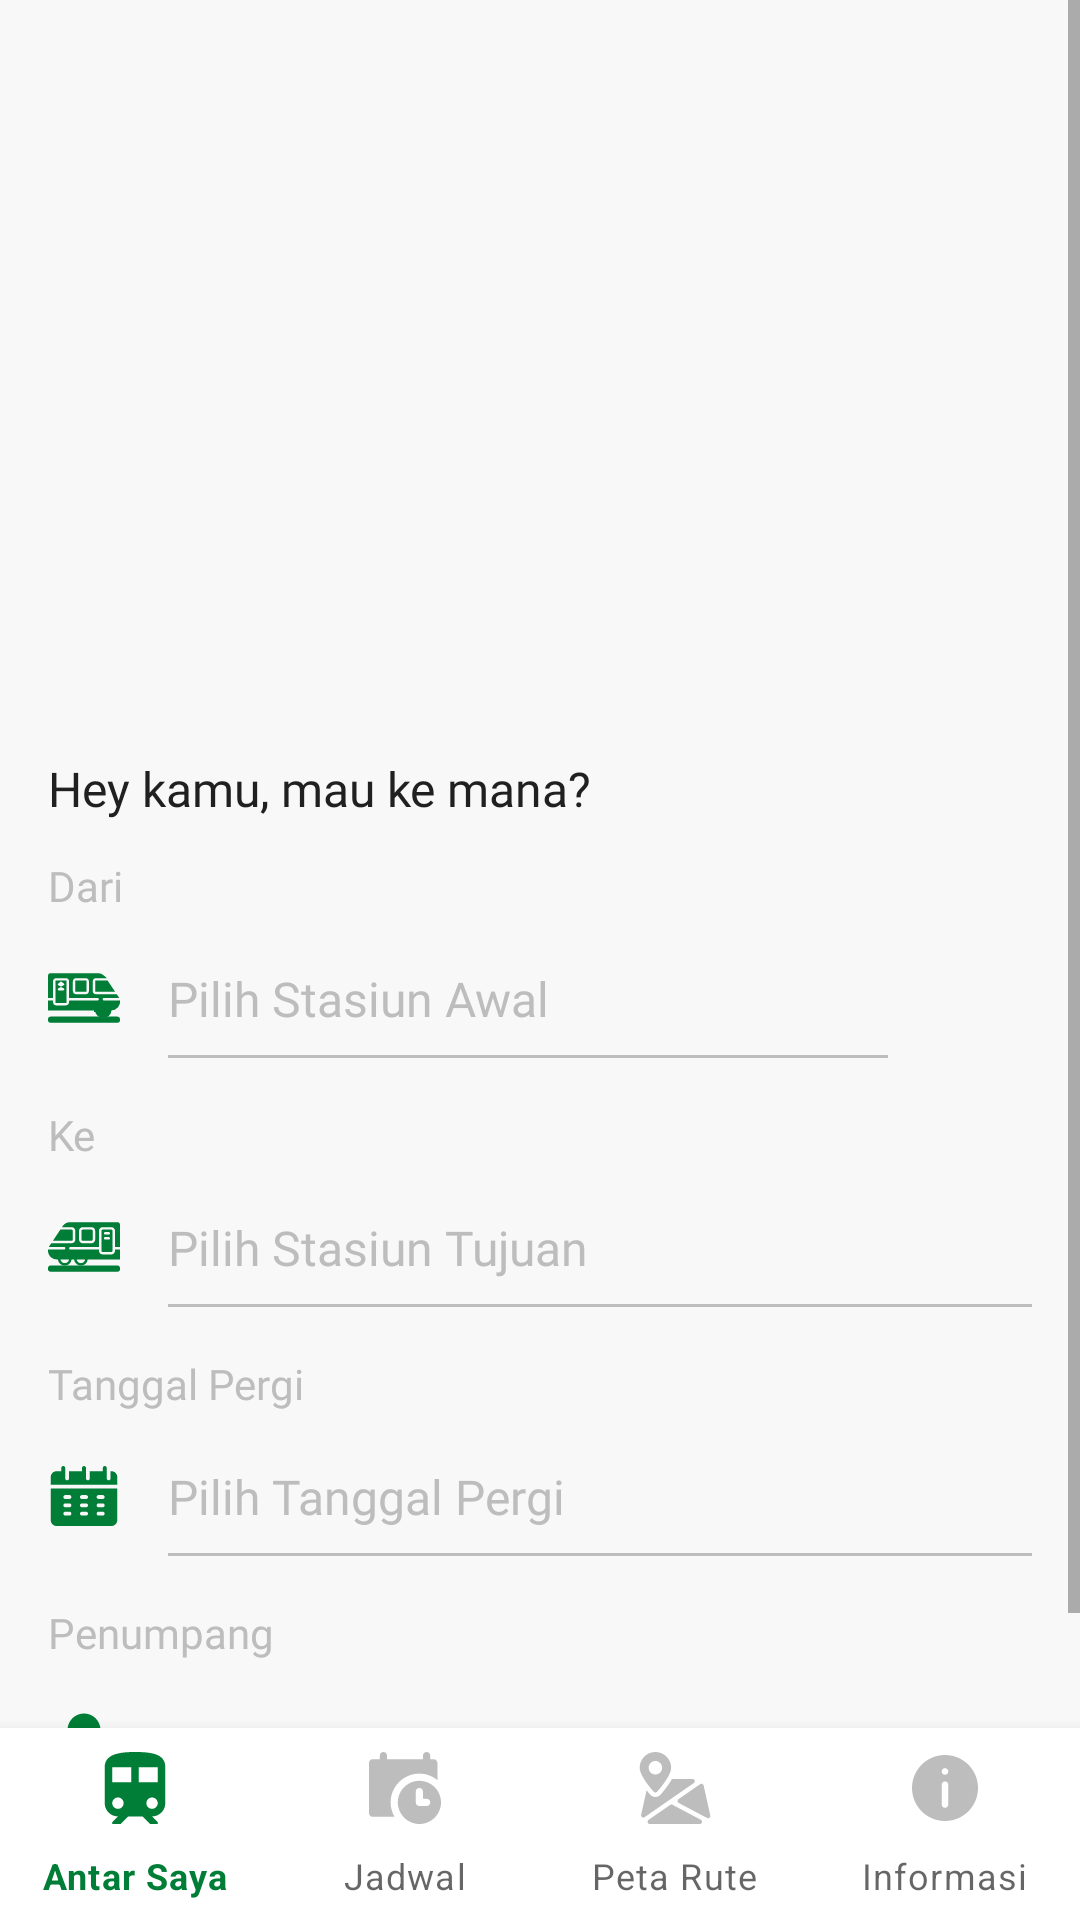

Icon click points for this 1080px×1920px phone screenshot, format (x,y):
date: (84,1496)
train from: (84,998)
train to: (84,1247)
